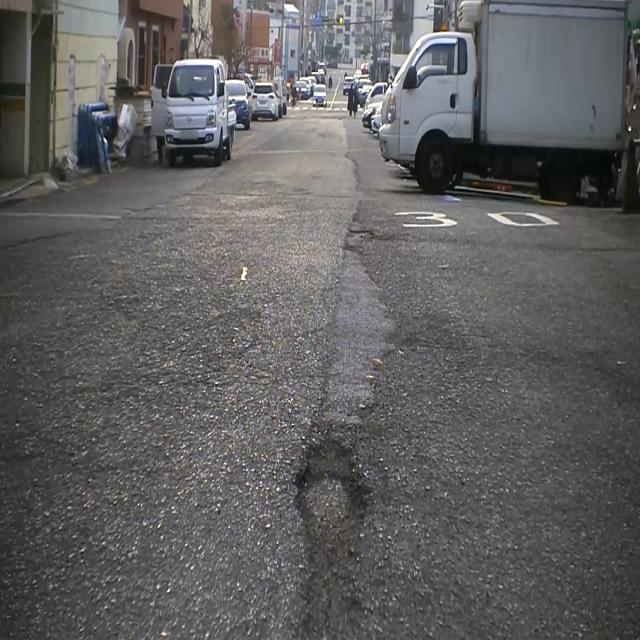Pothole: (288, 414, 376, 580)
